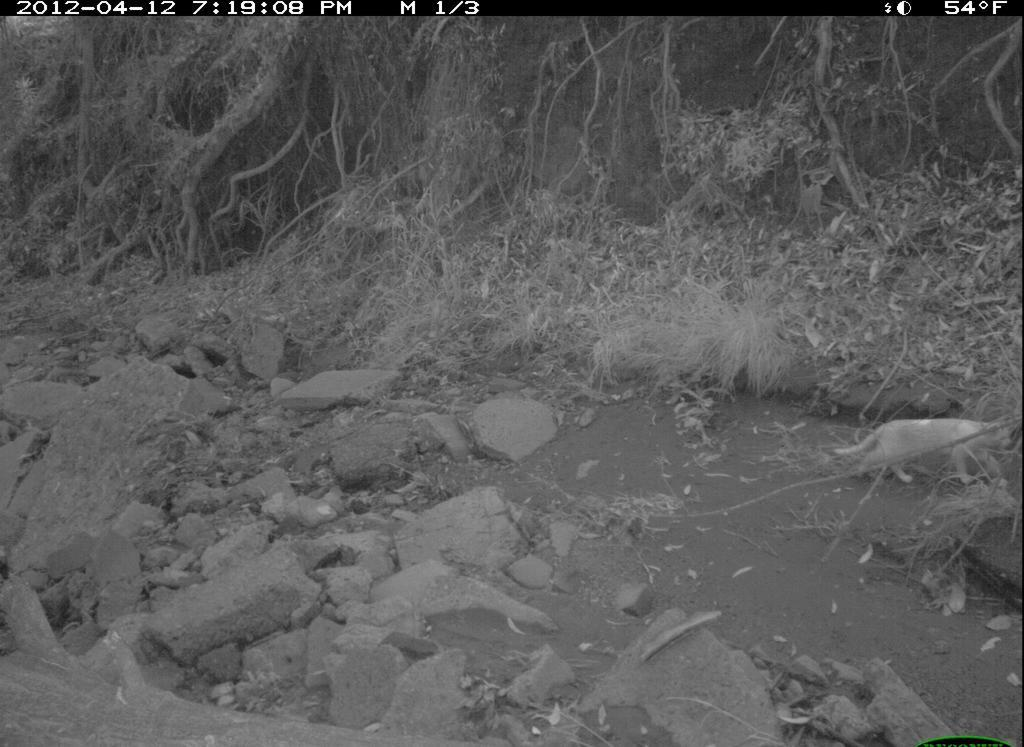cat: (825, 415, 1021, 498)
